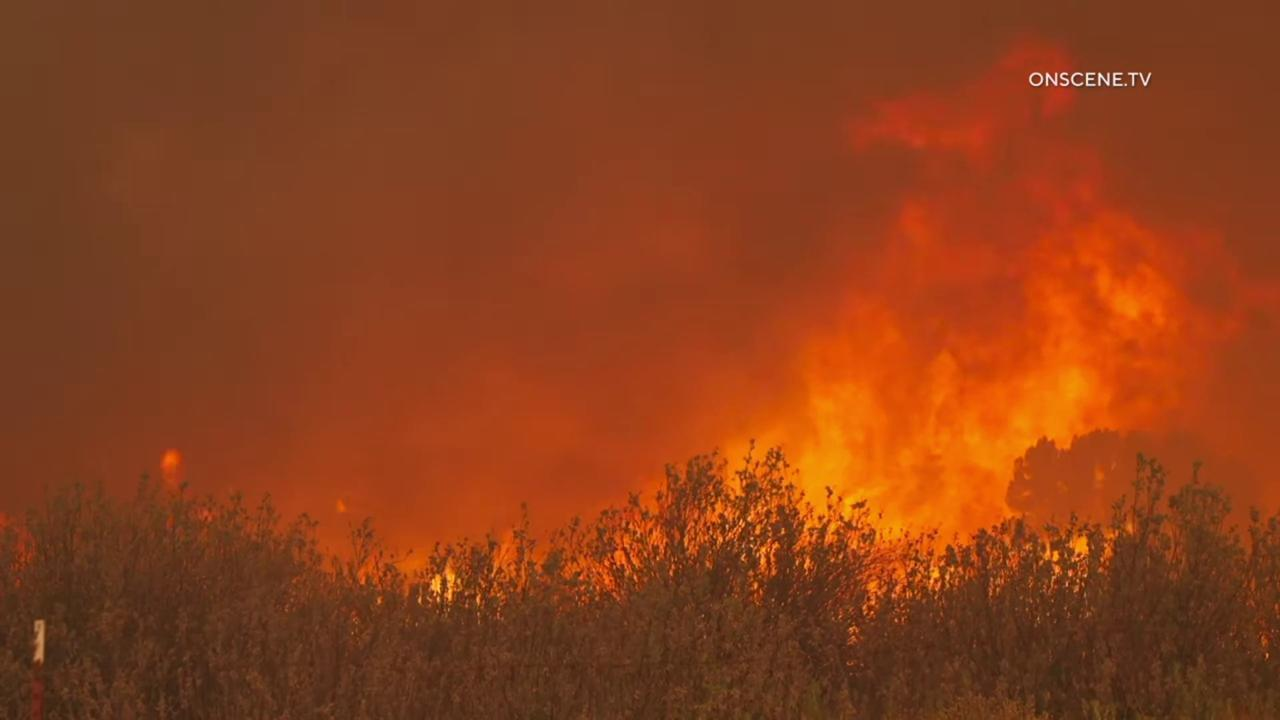fire: (702, 33, 1280, 627), (414, 559, 468, 614), (154, 448, 188, 513)
smoke: (0, 0, 1280, 631)
